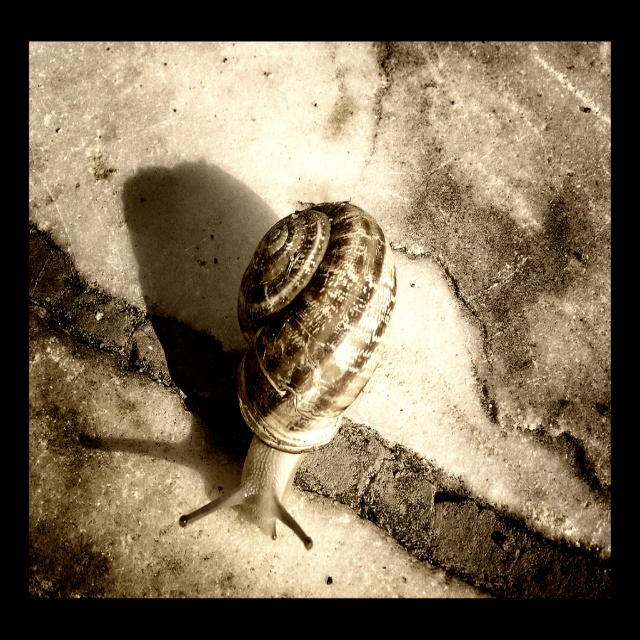Snail: (170, 203, 404, 556)
